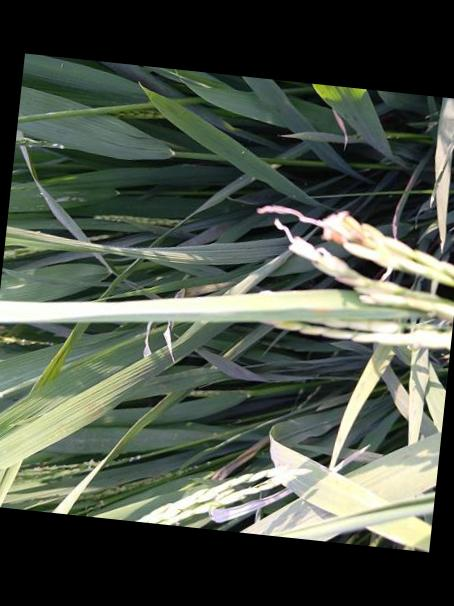Panicle Blight: (316, 209, 384, 249), (335, 276, 365, 288)
